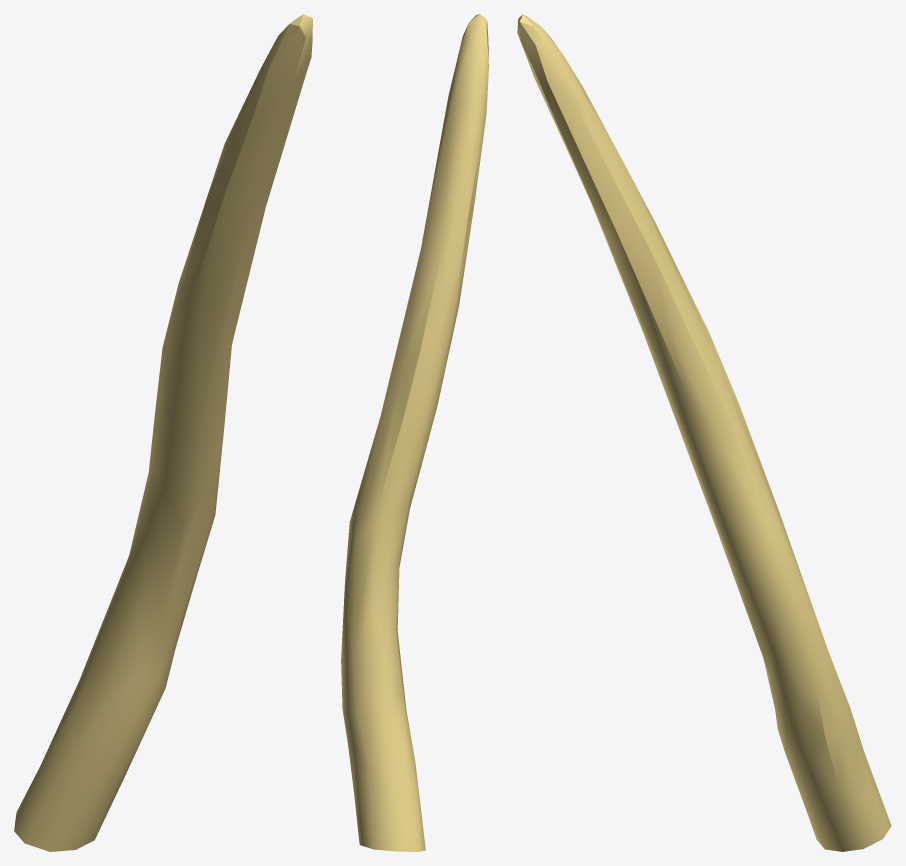
File: fma54569_mm2716m.glb
3 renders of one model, left to right at view 1: azimuth 30°, elevation 25°; view 2: azimuth 150°, elevation 25°; view 3: azimuth 270°, elevation 25°, orthographic. The views are drawn at different scales.
Visible parts, largest first — view 1: FMA54569_MM2716M; view 2: FMA54569_MM2716M; view 3: FMA54569_MM2716M.
Part boxes in pixels (x1,y1,x2,y2): FMA54569_MM2716M: [14, 14, 312, 851]; FMA54569_MM2716M: [341, 14, 488, 851]; FMA54569_MM2716M: [517, 14, 891, 851].
Size of the model in its own units: 0.00227 by 0.0143 by 0.00567.
